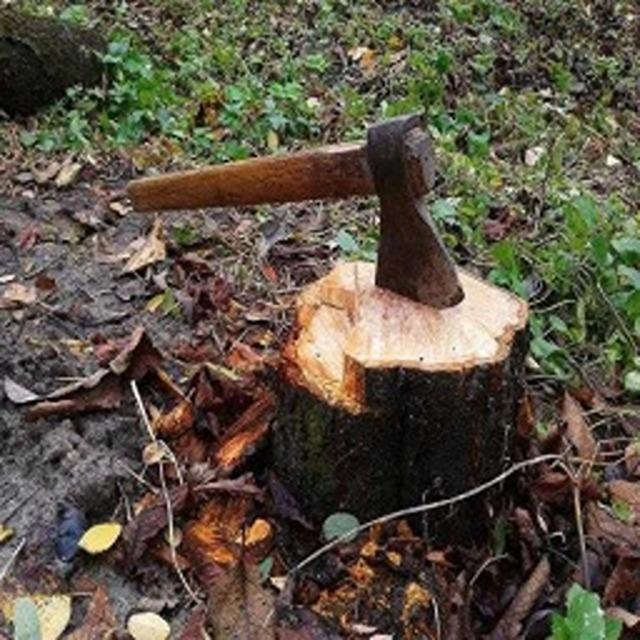ax: (122, 107, 480, 314)
